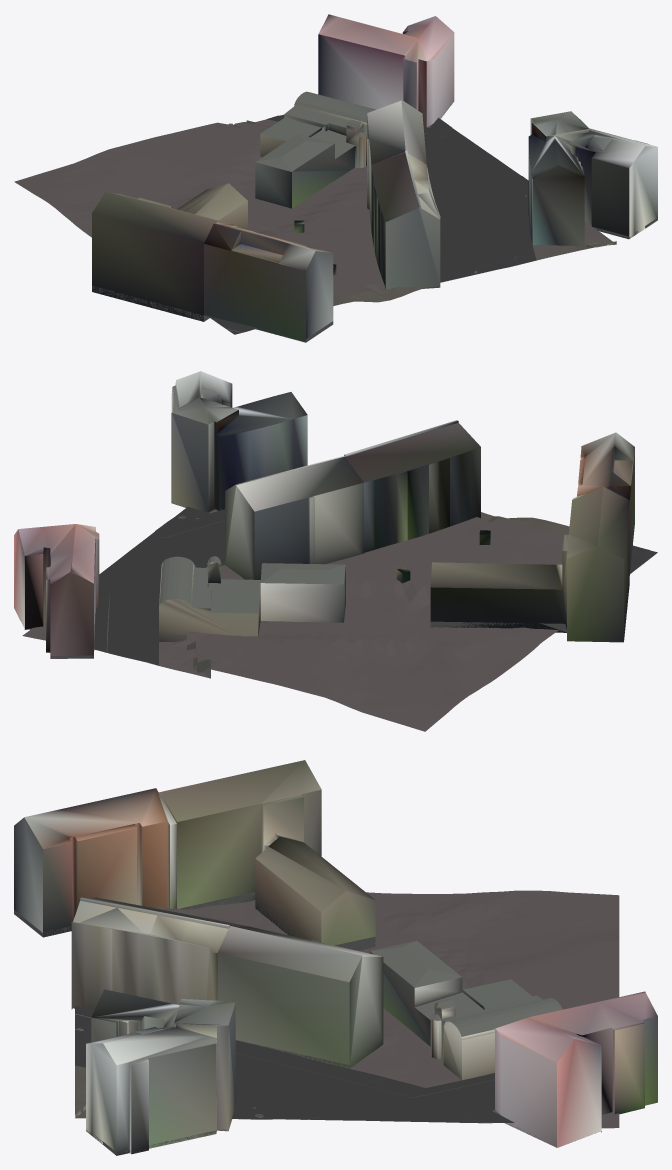
The picture shows the model from 3 angles, top to bottom: view 1: azimuth 30°, elevation 25°; view 2: azimuth 150°, elevation 25°; view 3: azimuth 270°, elevation 25°; orthographic projection. The views are drawn at different scales.
Visible parts, largest first — view 1: c_m13_m10; view 2: c_m13_m10; view 3: c_m13_m10.
Part boxes in pixels (x1,y1,x2,y2): c_m13_m10: (14,14,657,342); c_m13_m10: (14,371,657,731); c_m13_m10: (14,760,657,1155).
Bounding box in the file's own units: 166 × 30.8 × 151.
